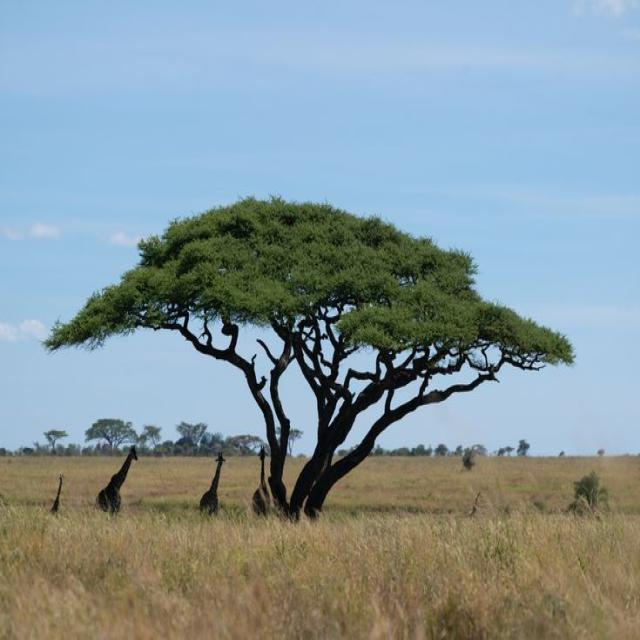Acacia: (69, 182, 573, 437)
